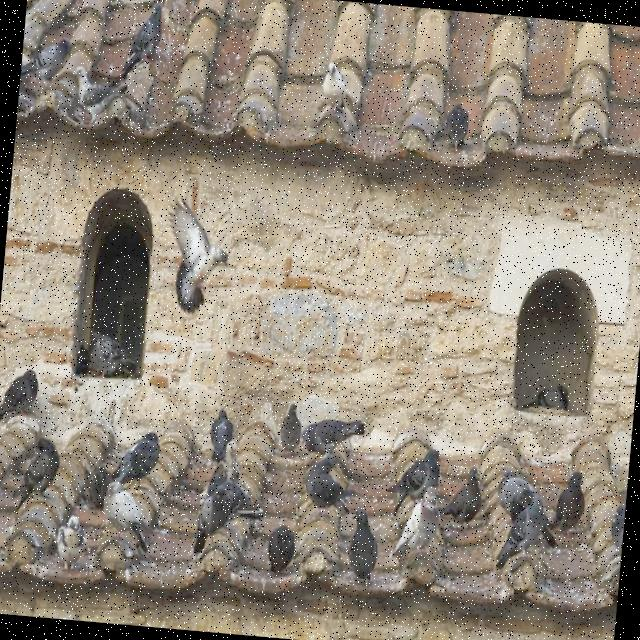bird: (158, 192, 234, 316), (192, 474, 267, 563), (494, 491, 560, 574), (383, 444, 442, 524), (99, 478, 155, 556), (390, 482, 442, 565), (9, 434, 62, 514), (120, 0, 164, 79), (437, 462, 485, 530), (302, 446, 352, 511), (110, 428, 161, 490), (298, 415, 366, 461), (388, 425, 434, 492), (71, 64, 130, 113), (346, 507, 382, 582), (20, 34, 72, 84), (292, 392, 340, 446), (0, 365, 40, 428), (552, 468, 588, 535), (494, 470, 537, 526), (121, 478, 163, 530), (53, 512, 87, 572), (80, 460, 113, 510), (318, 61, 349, 112), (277, 400, 304, 455), (608, 502, 625, 552)
